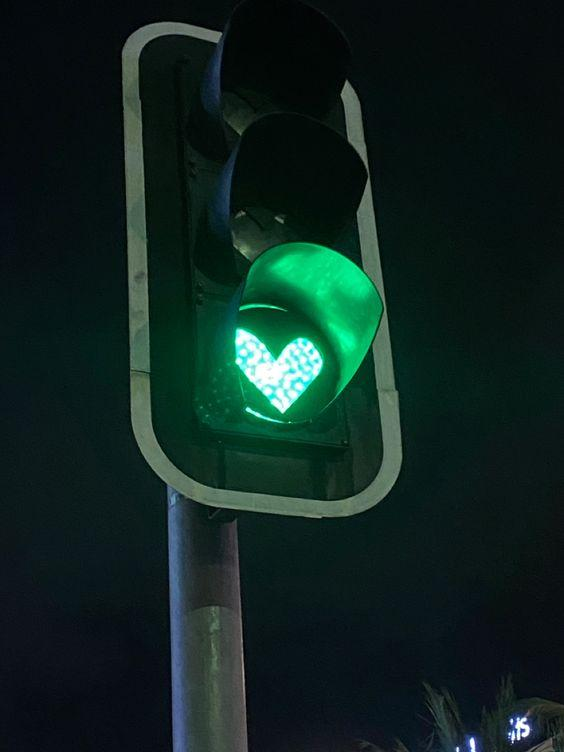Traffic light green: (100, 4, 406, 512)
